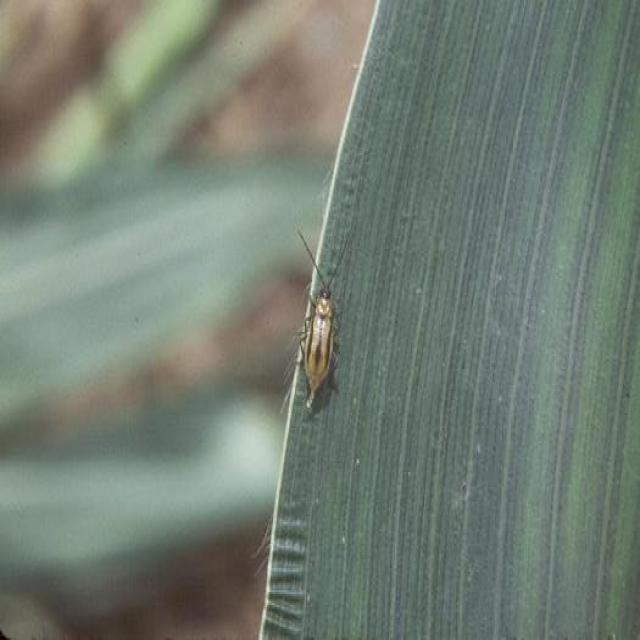trips: (293, 224, 350, 411)
